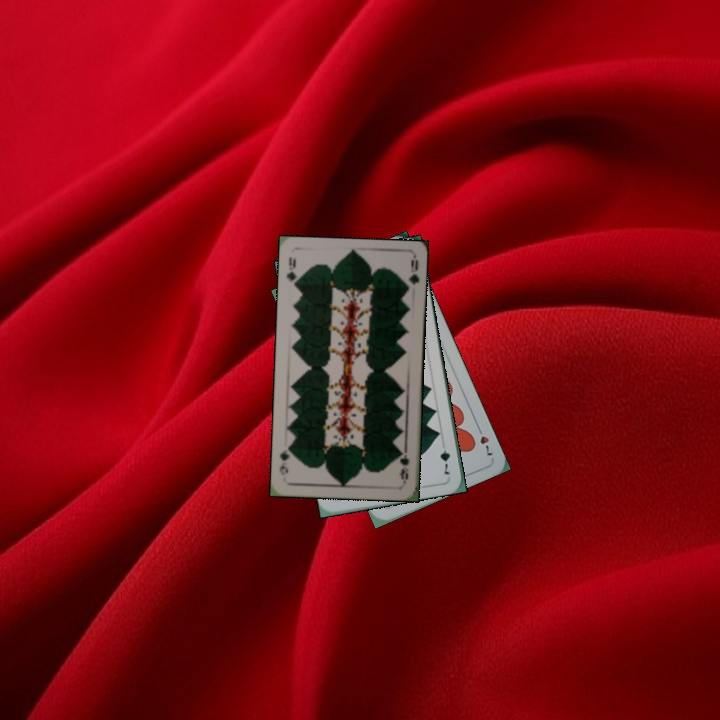G7: (436, 438, 453, 477)
G9: (282, 253, 301, 292), (395, 444, 411, 484)
H7: (472, 421, 496, 460)
